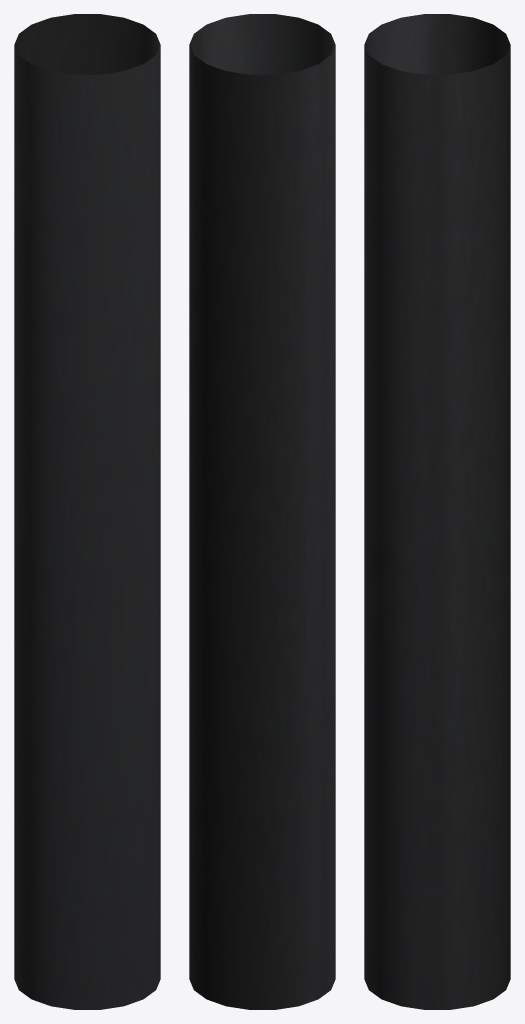
The model's file is platform_pole.fbx.
The picture shows the model from 3 angles, left to right: view 1: azimuth 30°, elevation 25°; view 2: azimuth 150°, elevation 25°; view 3: azimuth 270°, elevation 25°; orthographic projection.
Parts seen in each view (by area): view 1: Cylinder.002; view 2: Cylinder.002; view 3: Cylinder.002.
Part boxes in pixels (x1,y1,x2,y2): Cylinder.002: (14,14,160,1009); Cylinder.002: (189,14,335,1009); Cylinder.002: (364,14,510,1009).
Bounding box in the file's own units: 788 × 5651 × 800.
